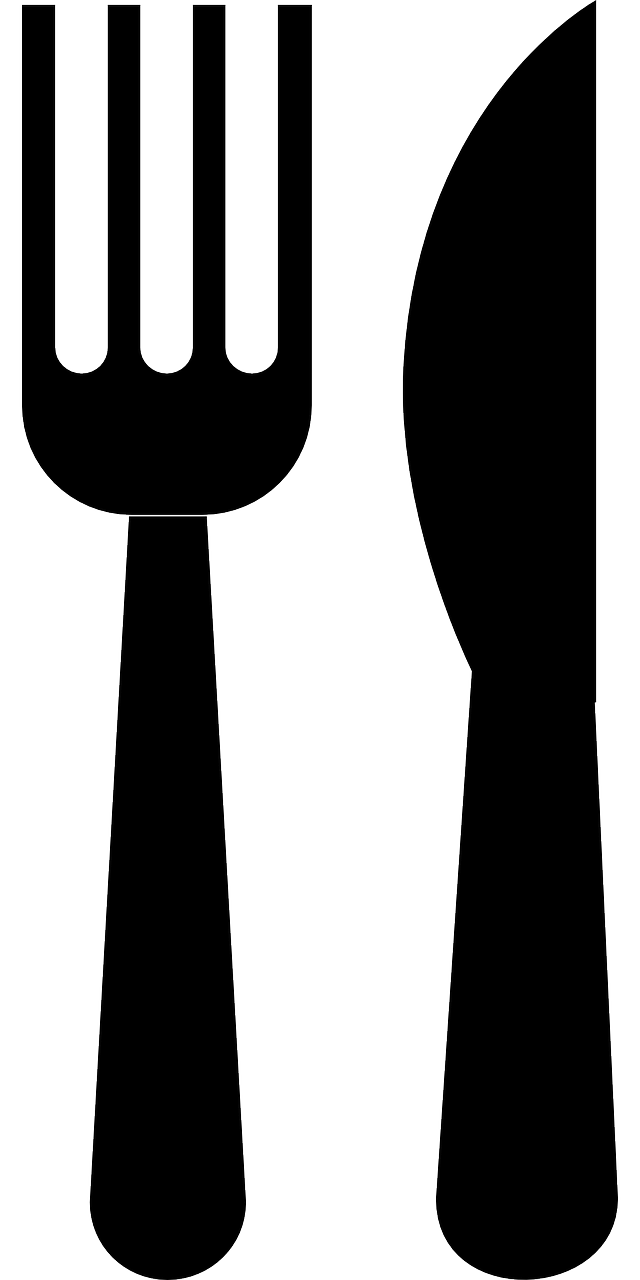knife: (402, 0, 640, 1280)
